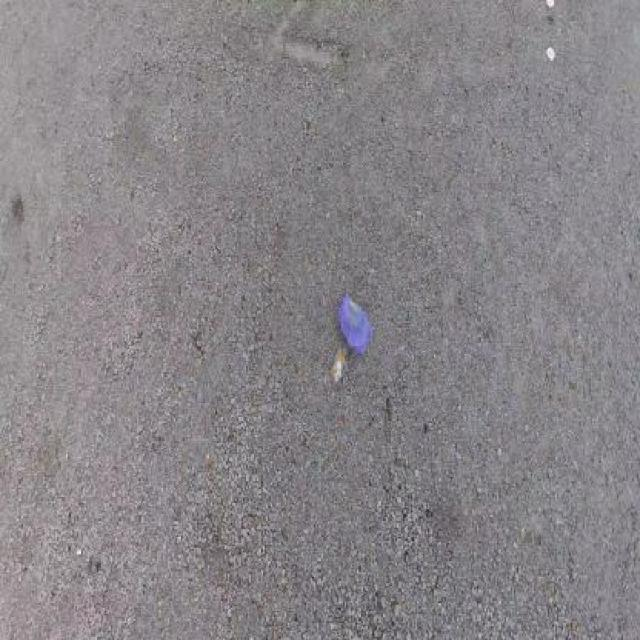Garbage: (337, 292, 373, 355), (330, 347, 347, 383)
